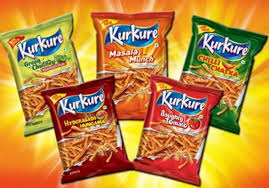kurkure: (155, 86, 209, 116), (202, 31, 248, 64), (16, 37, 69, 57), (56, 97, 113, 115), (108, 25, 158, 45)
plastic: (96, 14, 169, 109), (3, 32, 83, 118), (196, 17, 247, 139), (47, 88, 128, 161), (153, 78, 207, 173)
wrapper: (95, 6, 156, 115), (7, 28, 79, 119), (193, 27, 260, 122), (146, 88, 209, 175), (56, 96, 121, 166)
